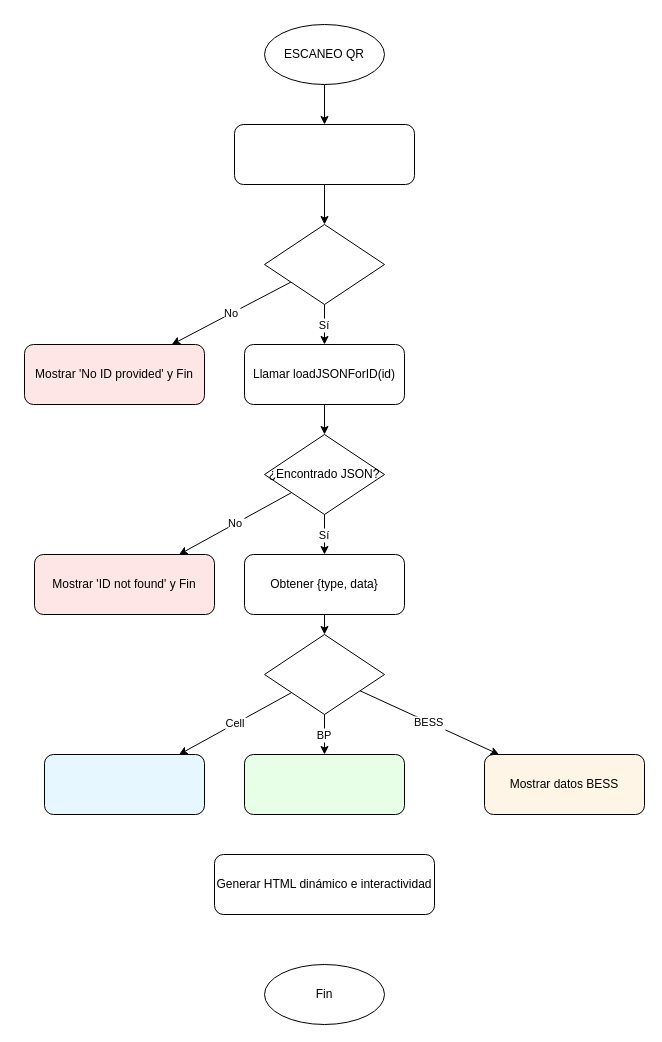
The diagram is 662 pixels wide and 1042 high, and some of its shapes have lost their labels. The shapes that lost their labels are listed below. From the top down, each one's box as (x1, y1, x2, y2) in pixels, then its label:
(234, 124, 414, 184): OBTENER URL ?id=
(264, 224, 384, 304): ¿Existe ID?
(264, 634, 384, 714): ¿Tipo de JSON?
(44, 754, 204, 814): Mostrar datos Cell
(244, 754, 404, 814): Mostrar datos Battery Pack
